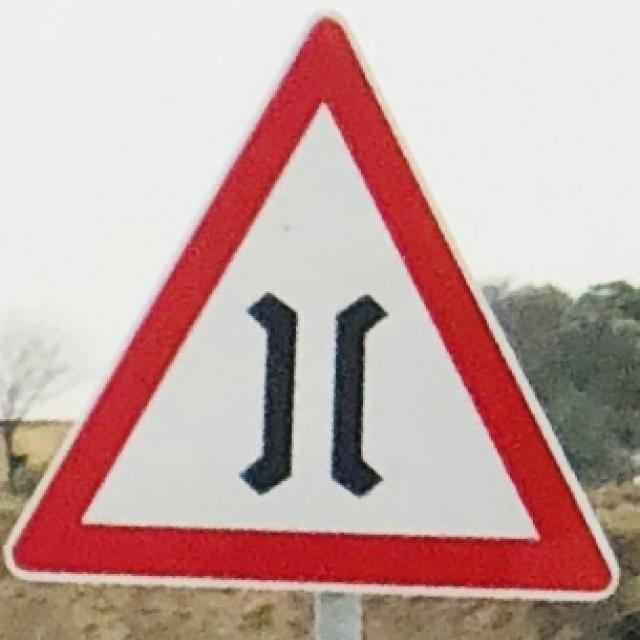narrow bridge ahead: (22, 32, 612, 597)
